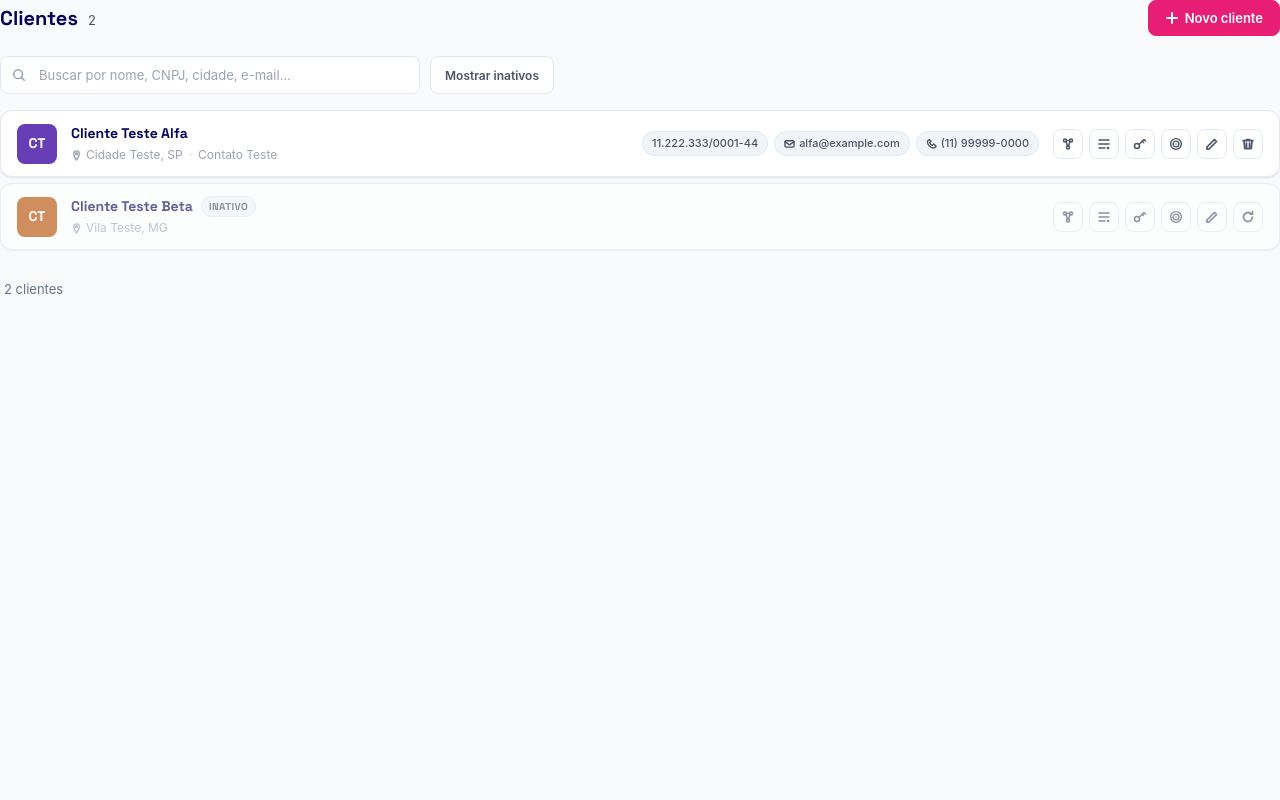
Test case: ClientsPage › novo cliente: aplica máscara de CNPJ/CEP, aparece vazio como null e envia o payload
Check: the text "Cliente Teste Alfa" is shown, box x1=71 y1=124 x2=188 y2=142
Click the button "Novo cliente": (1214, 18) x1=1148 y1=0 x2=1279 y2=36
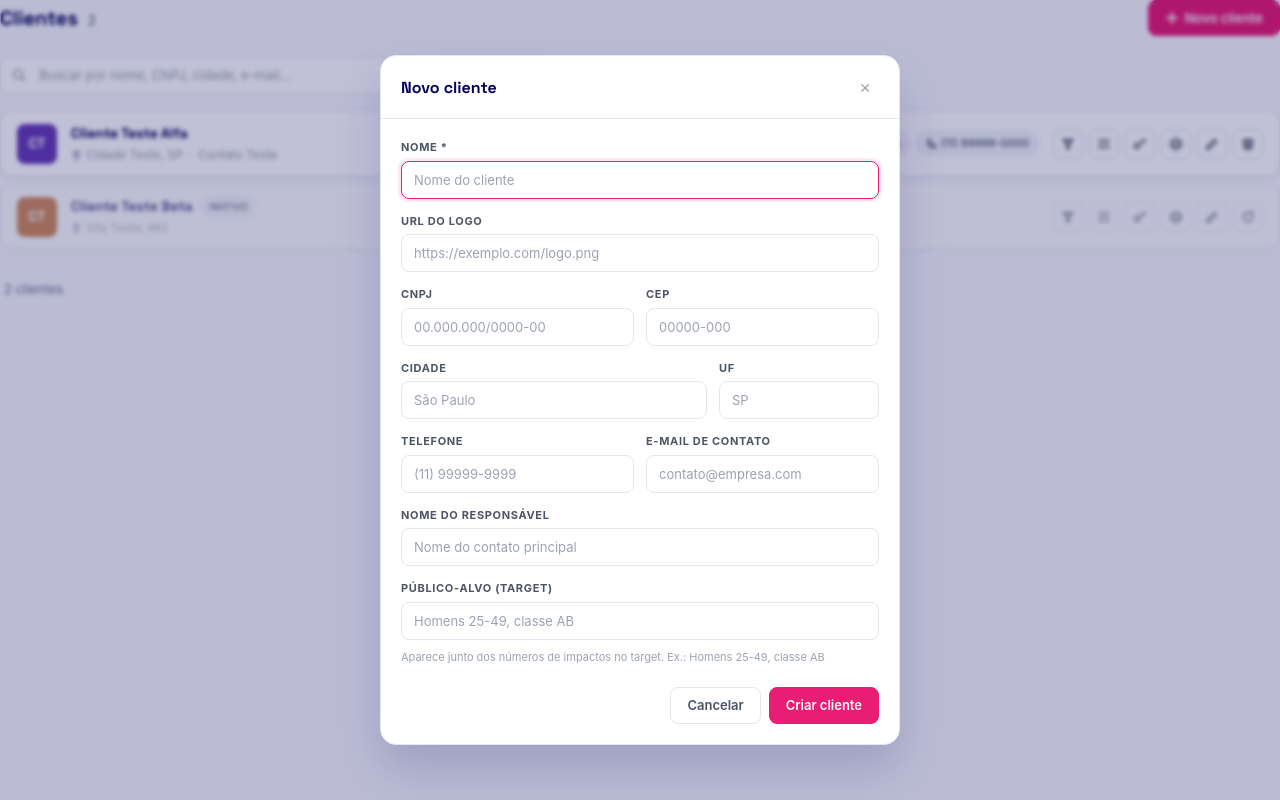
In the field with placeholder "Nome do cliente": (640, 180) x1=401 y1=161 x2=879 y2=199, type "  Cliente Novo Teste  "
In the field with placeholder "00.000.000/0000-00": (518, 327) x1=401 y1=308 x2=634 y2=346, type "12345678000199"
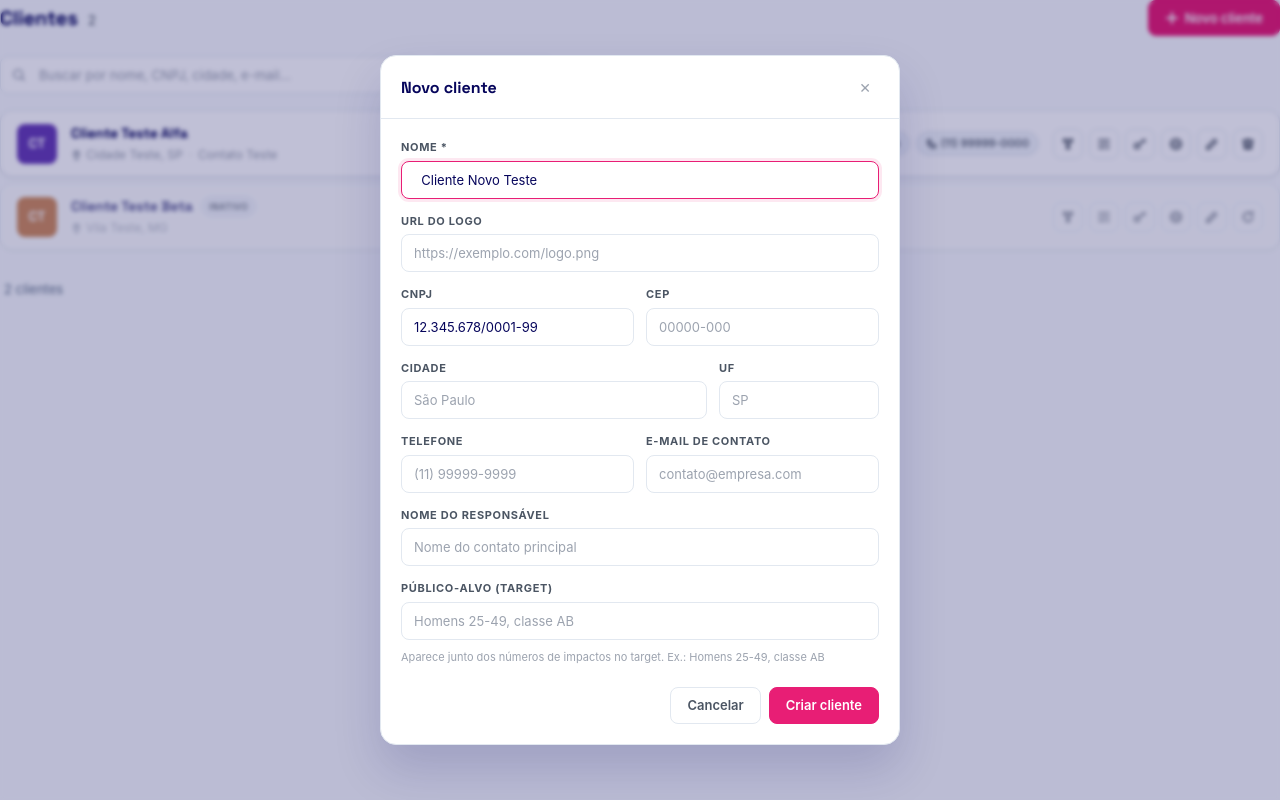
Check: the field with placeholder "00.000.000/0000-00" below "CNPJ" holds "12.345.678/0001-99", box x1=401 y1=308 x2=634 y2=346
In the field with placeholder "00000-000": (762, 327) x1=646 y1=308 x2=879 y2=346, type "01310100"
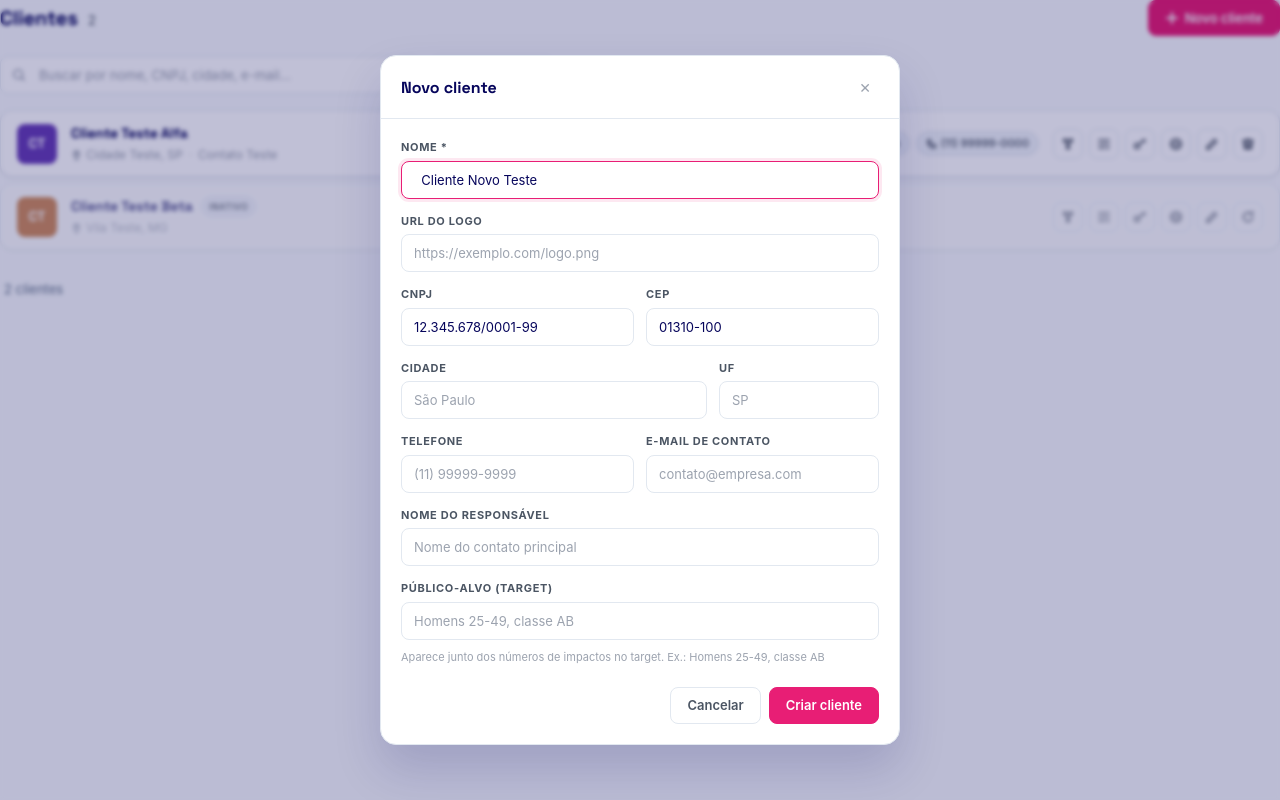
Check: the field with placeholder "00000-000" below "CEP" holds "01310-100", box x1=646 y1=308 x2=879 y2=346
In the field with placeholder "SP": (799, 400) x1=719 y1=381 x2=879 y2=419, type "sp"
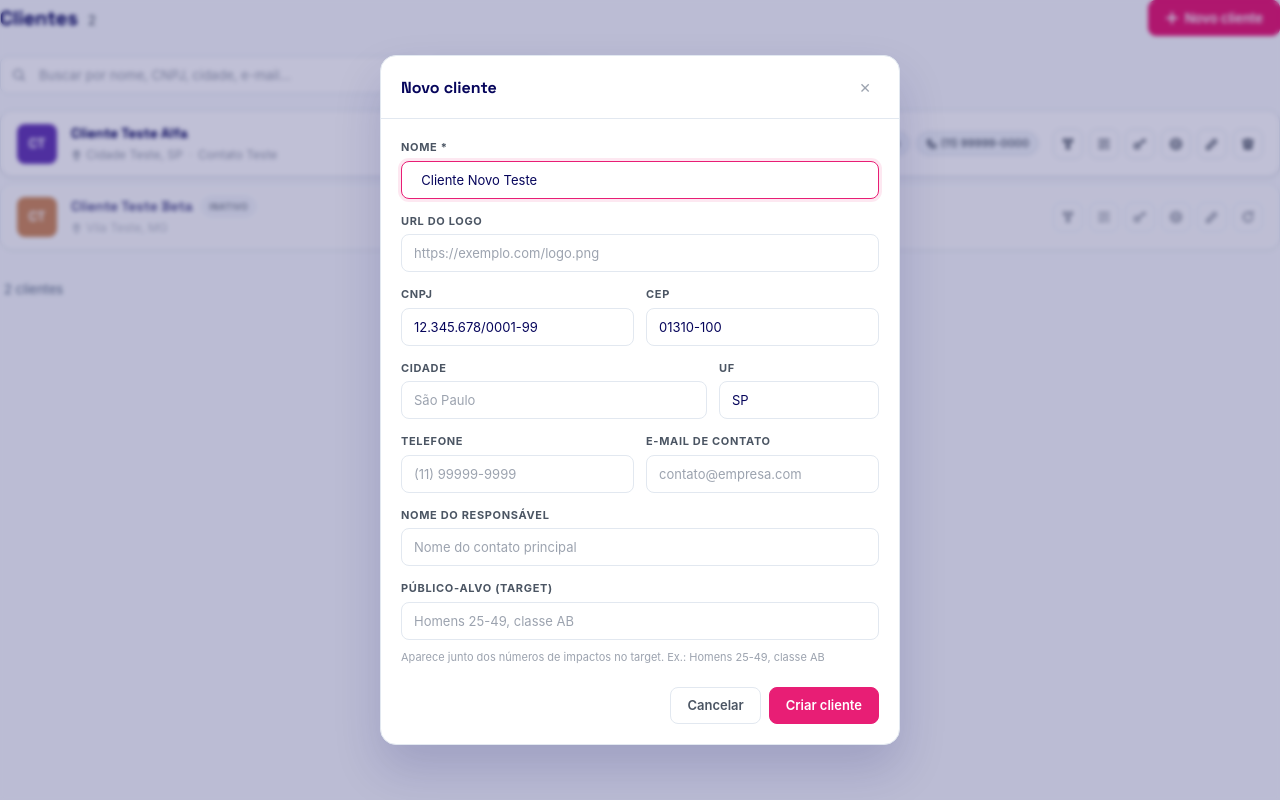
In the field with placeholder "Homens 25-49, classe AB": (640, 621) x1=401 y1=602 x2=879 y2=640, type "Mulheres 25-49"
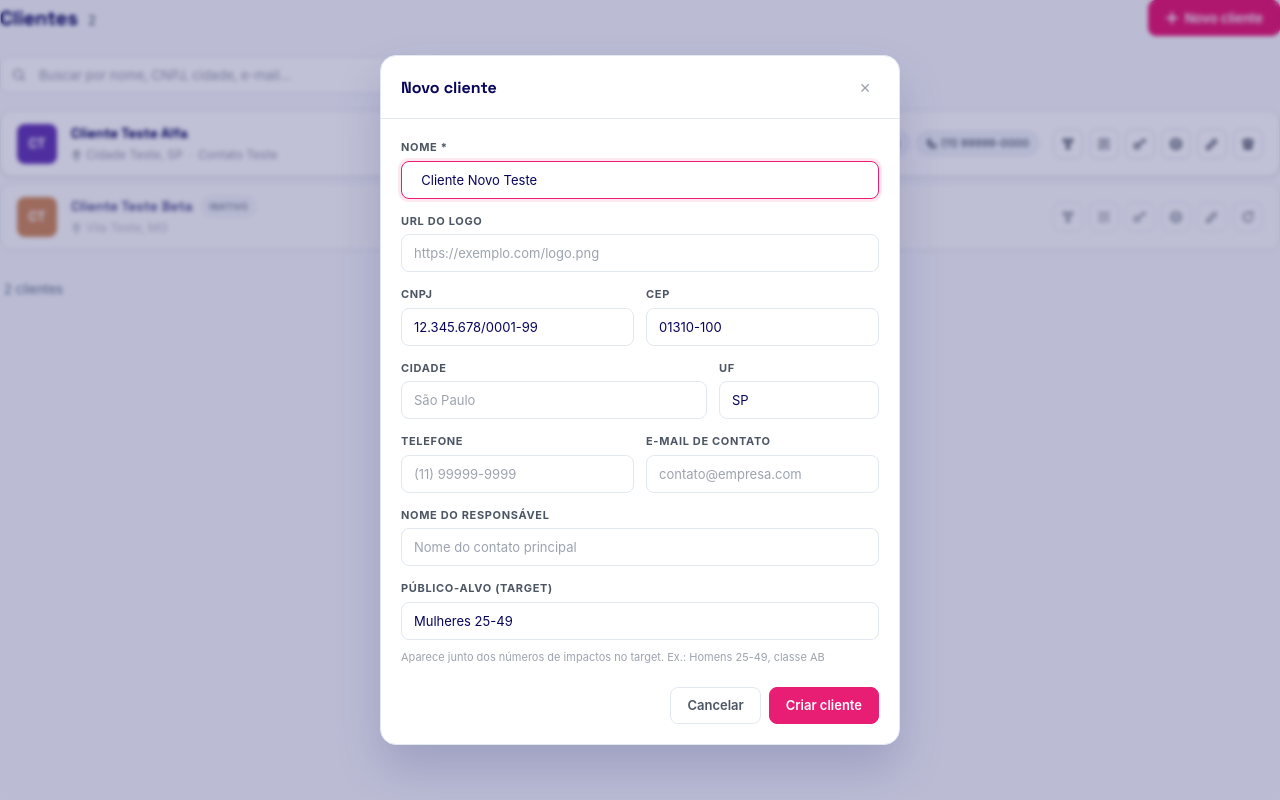
Click the button "Criar cliente": (824, 706) x1=769 y1=687 x2=879 y2=724
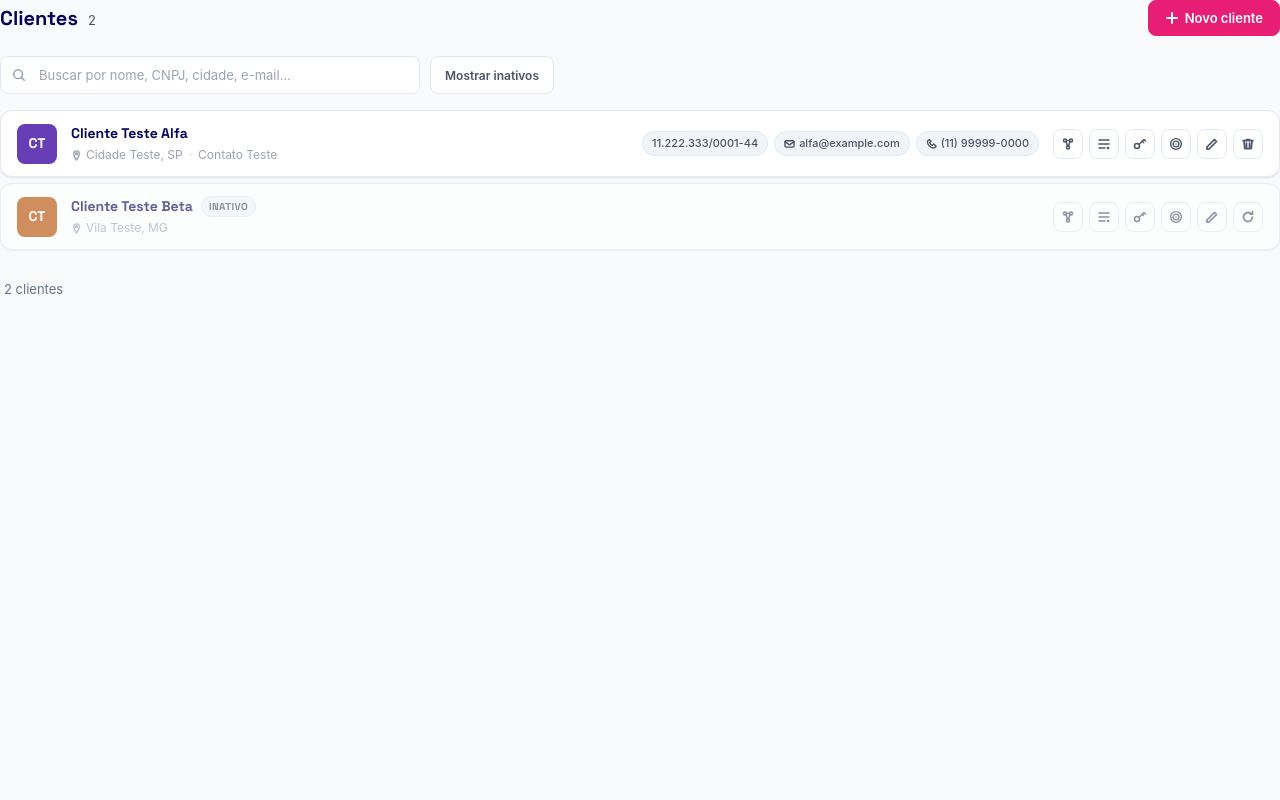
Check: the element with class "modal" is gone
